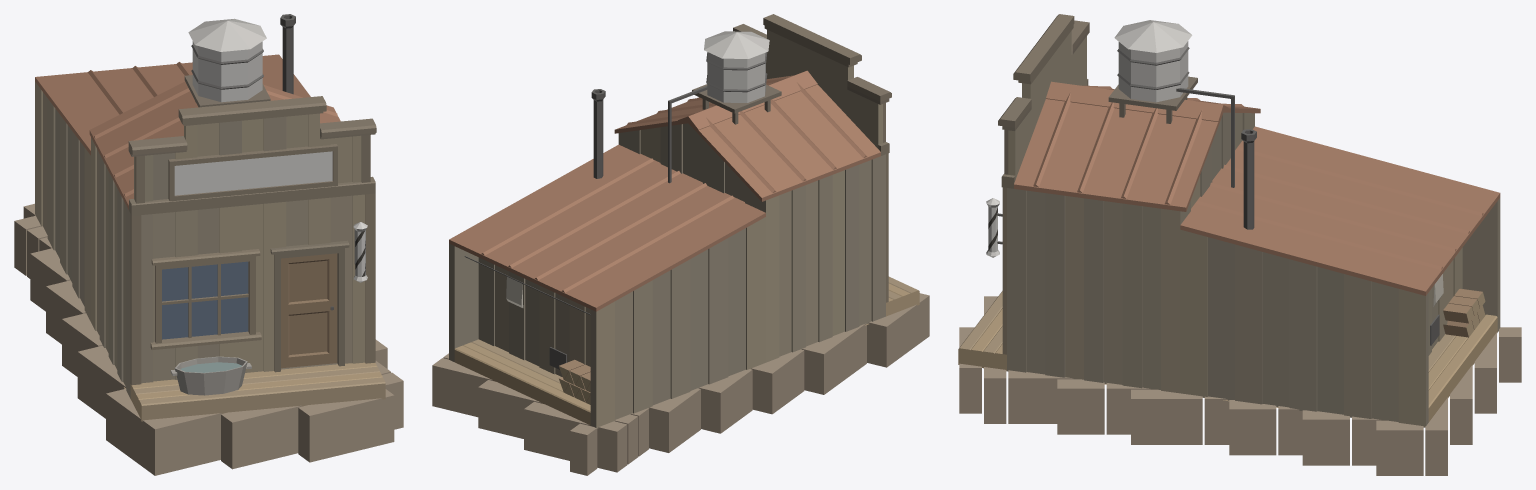
Rendered from house_6.glb.
3 views of the same model, side by side, from view 1: azimuth 30°, elevation 25°; view 2: azimuth 150°, elevation 25°; view 3: azimuth 270°, elevation 25° (orthographic). The views are drawn at different scales.
Parts seen in each view (by area): view 1: house_6; view 2: house_6; view 3: house_6.
Part boxes in pixels (x1,y1,x2,y2): house_6: (14, 14, 403, 475); house_6: (432, 14, 929, 475); house_6: (958, 14, 1521, 475).
Size of the model in its own units: 7.98 by 8.07 by 11.48.
